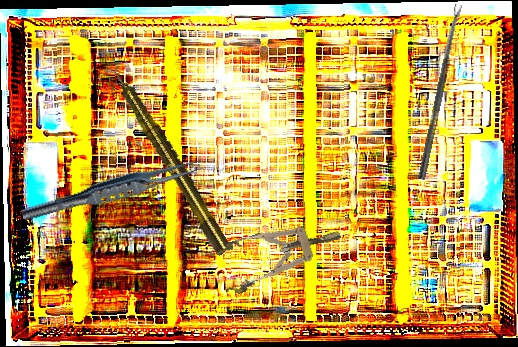Handpiece: (104, 60, 234, 258)
Speculum: (212, 210, 348, 298)
Surgical Spoon: (417, 3, 464, 181)
Tissue Forceps: (19, 151, 207, 229)
